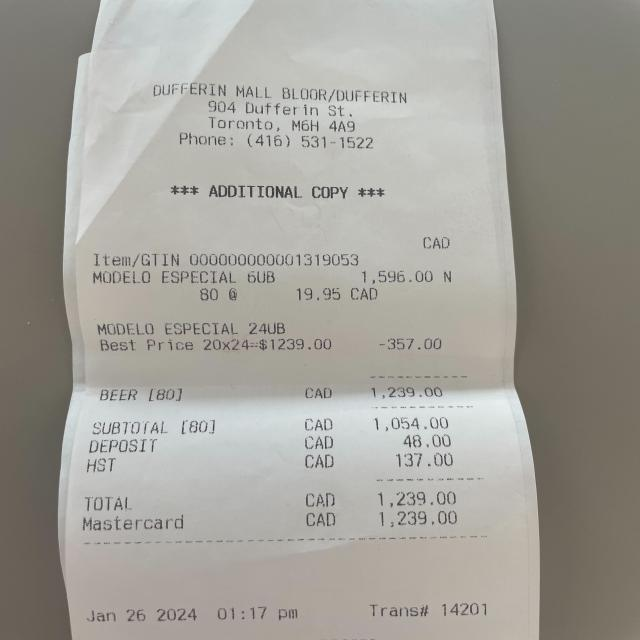item: (93, 383, 463, 408)
store_name: (144, 80, 415, 106)
total_amount: (78, 488, 468, 514)
transaction_date: (75, 602, 206, 631)
